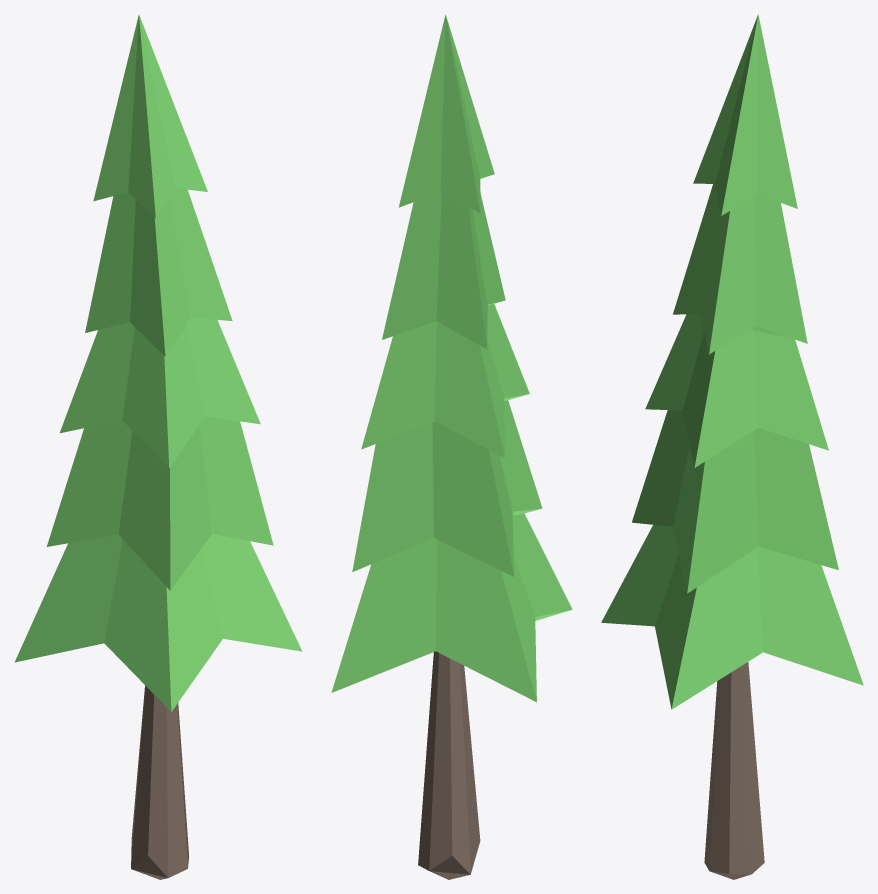
File: Abete 2 Metà.fbx
3 renders of one model, left to right at view 1: azimuth 30°, elevation 25°; view 2: azimuth 150°, elevation 25°; view 3: azimuth 270°, elevation 25°, orthographic. The views are drawn at different scales.
Parts seen in each view (by area): view 1: Cube.001; view 2: Cube.001; view 3: Cube.001.
Part boxes in pixels (<box>): Cube.001: <box>14,14,302,879</box>; Cube.001: <box>331,14,572,879</box>; Cube.001: <box>601,14,863,879</box>.
Bounding box in the file's own units: 32.7 × 118 × 32.67.
